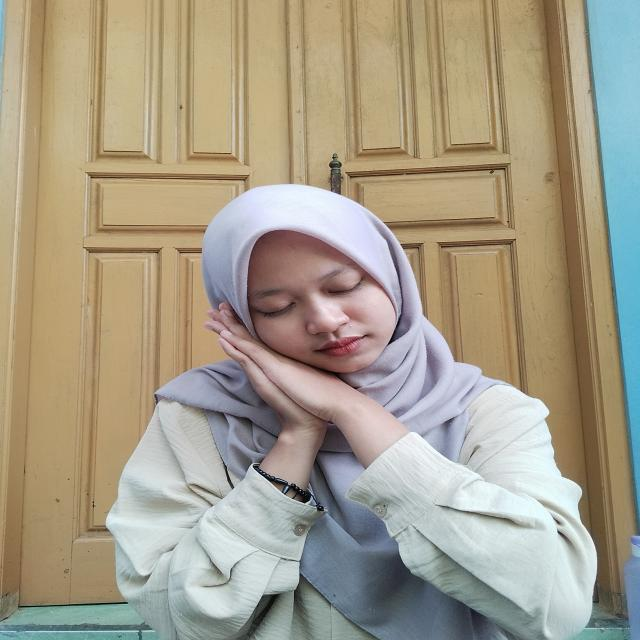tidur: (205, 298, 400, 480)
